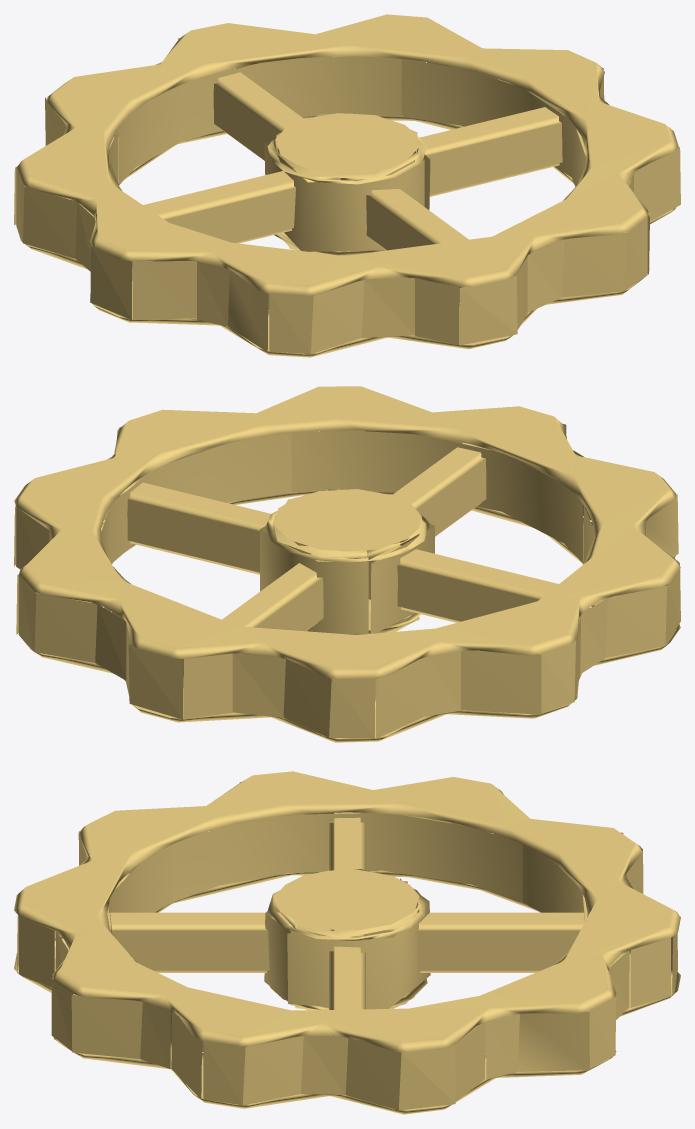
File: boss_gear_small.glb
3 views of the same model, one above another, from view 1: azimuth 30°, elevation 25°; view 2: azimuth 150°, elevation 25°; view 3: azimuth 270°, elevation 25° (orthographic). The views are drawn at different scales.
Parts seen in each view (by area): view 1: GearSmall, GearSmall_Hub; view 2: GearSmall, GearSmall_Hub; view 3: GearSmall, GearSmall_Hub.
Part boxes in pixels (x1,y1,x2,y2): GearSmall: (14, 14, 680, 357); GearSmall_Hub: (264, 113, 430, 255); GearSmall: (14, 386, 680, 742); GearSmall_Hub: (260, 489, 434, 634); GearSmall: (14, 771, 680, 1114); GearSmall_Hub: (264, 869, 430, 1010).
Size of the model in its own units: 2.46 by 0.354 by 2.5.
